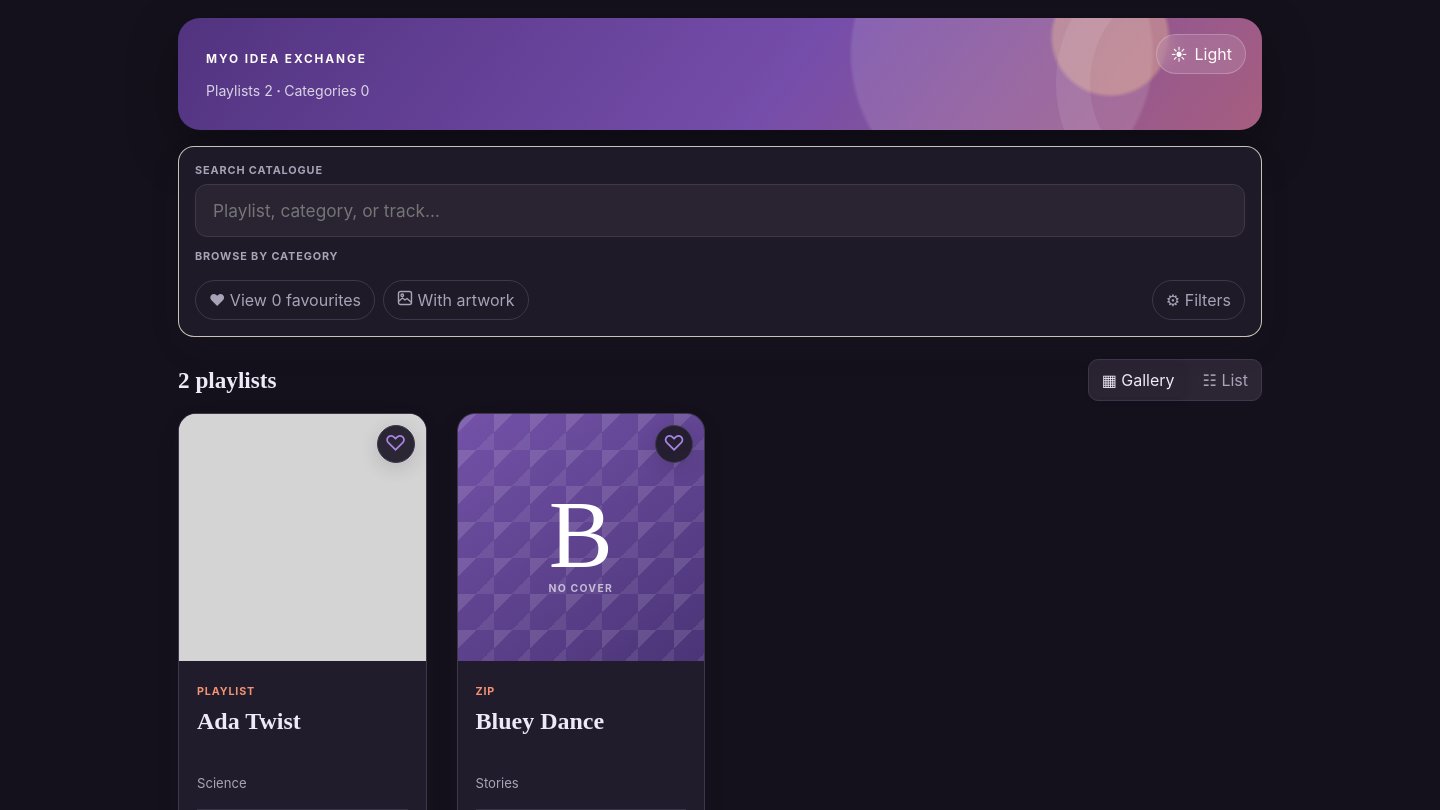
catalogue app › keeps advanced filters tucked away until requested
(page scrolled)
Click the heading "Filters" at (1198, 300), box [1152,280,1245,320]
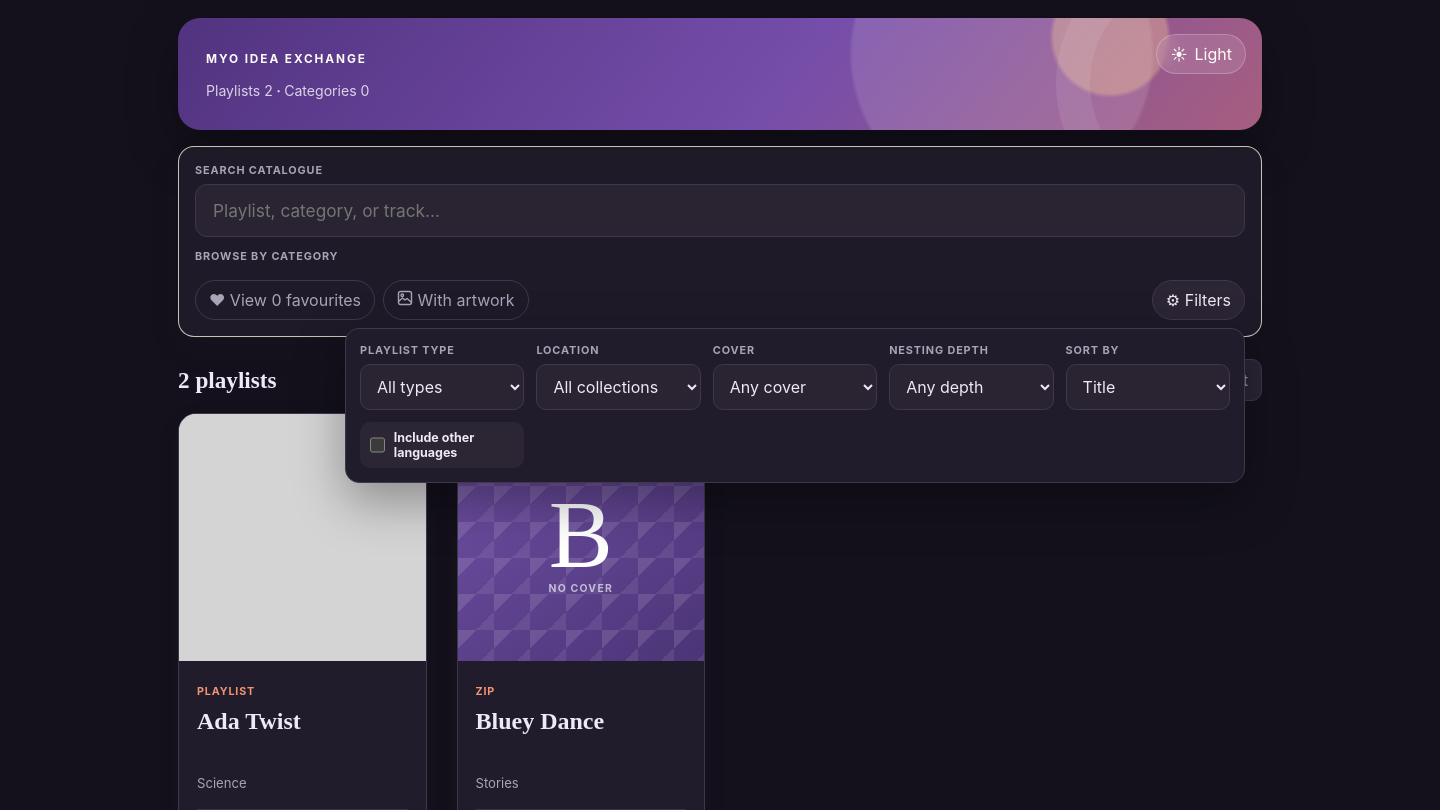
Result: the dropdown labelled "Playlist type" is shown at [360,364,524,410]
